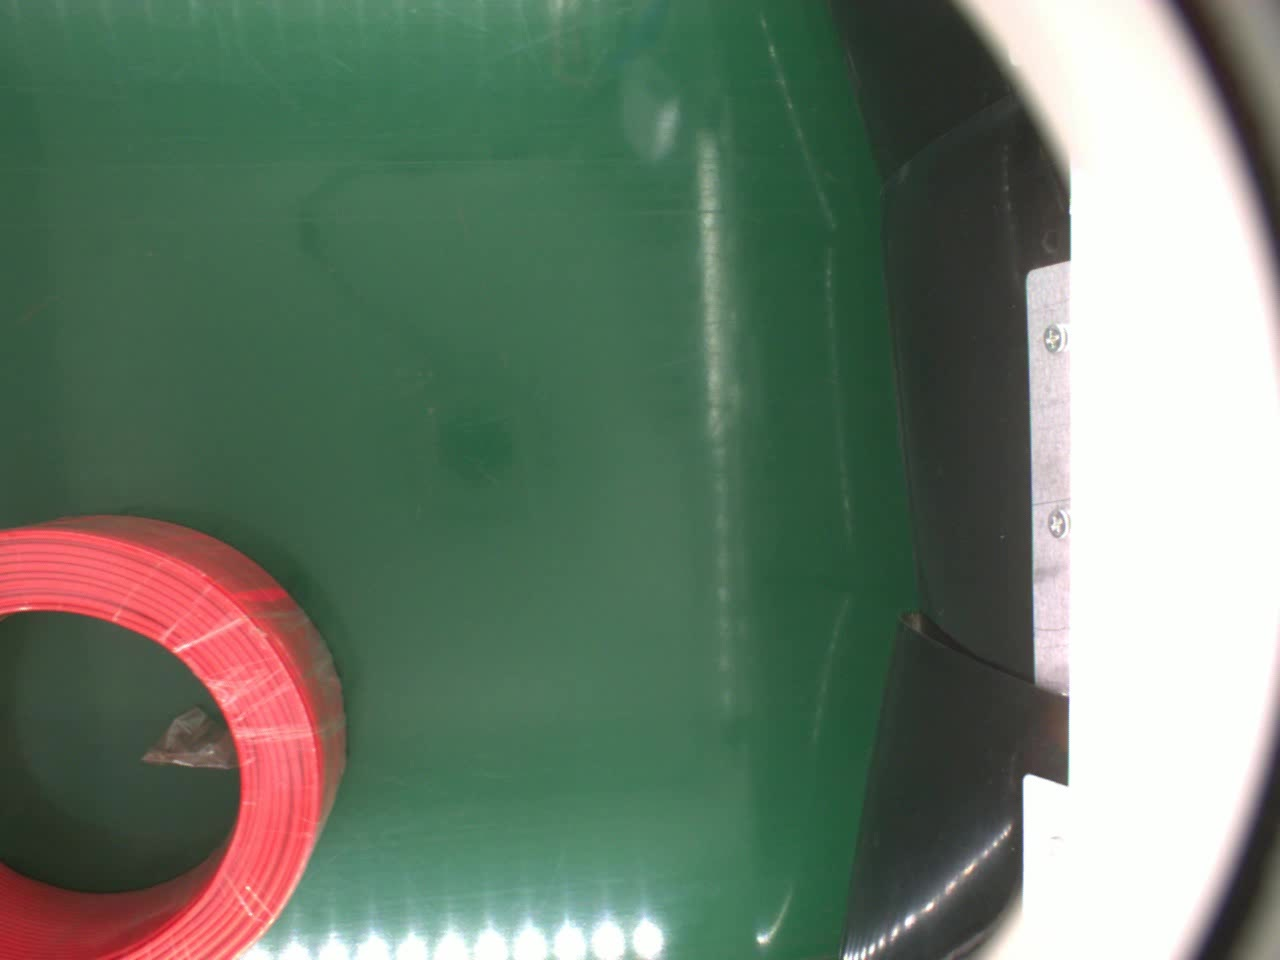red: (0, 509, 350, 960)
